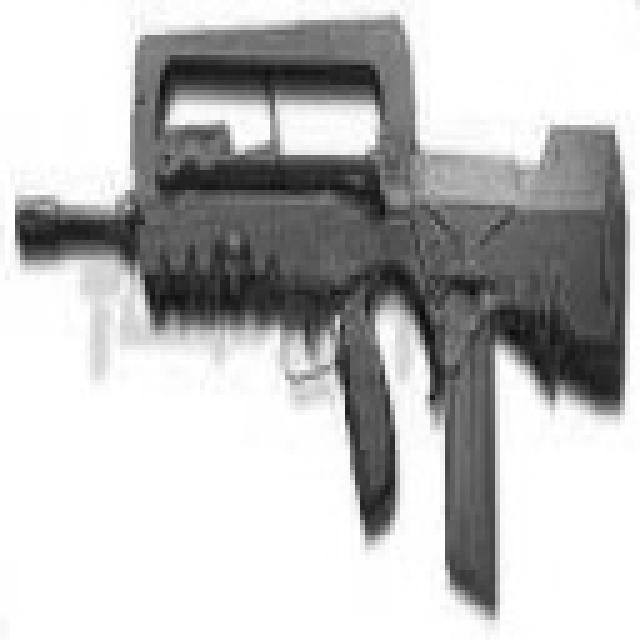Rifle: (6, 13, 640, 627)
